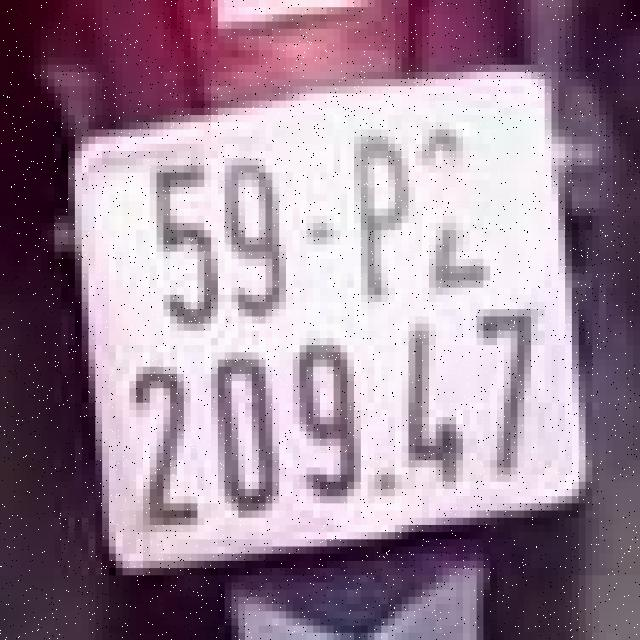0: (201, 345, 289, 525)
2: (116, 360, 204, 540), (415, 108, 497, 288)
4: (392, 316, 473, 482)
5: (146, 144, 228, 331)
7: (470, 291, 565, 478)
9: (296, 327, 371, 514), (218, 151, 293, 324)
P: (340, 122, 416, 309)
